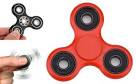fidget_spinner: (45, 0, 130, 80), (0, 0, 57, 38), (2, 40, 42, 83), (2, 40, 39, 83)
